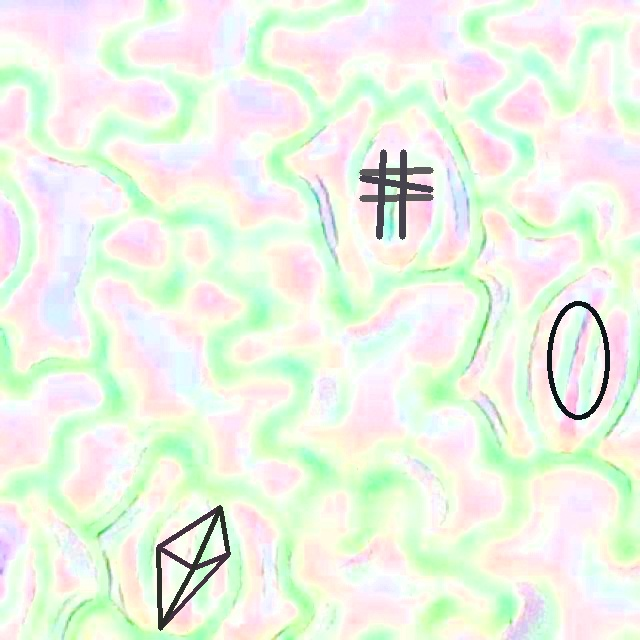open: (156, 505, 230, 630), (546, 299, 610, 420), (360, 149, 432, 239)
